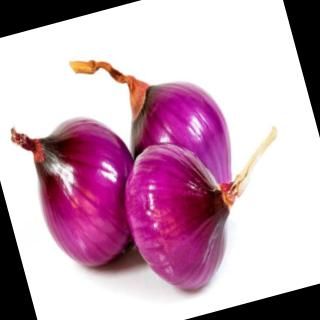Bawang Merah: (109, 112, 317, 308), (5, 97, 160, 282)
